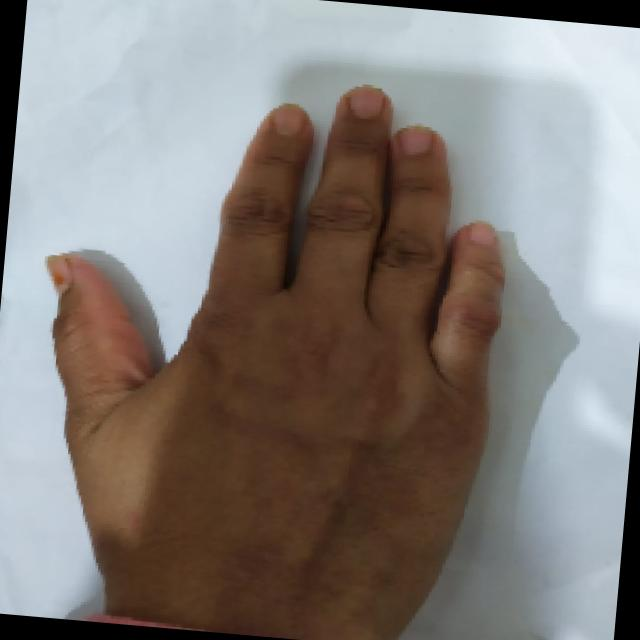Nail: (349, 84, 385, 118), (46, 253, 71, 294), (400, 126, 435, 155), (272, 103, 304, 134), (467, 221, 495, 245)
